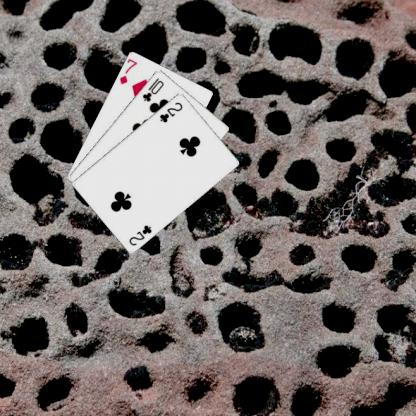10C: (139, 75, 165, 103)
2C: (157, 99, 184, 124), (126, 222, 153, 246)
7D: (116, 56, 139, 85)
